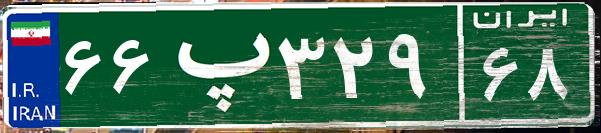2: (330, 28, 385, 110)
3: (273, 28, 330, 110)
6: (57, 26, 110, 107), (475, 38, 525, 113), (110, 28, 158, 105)
8: (525, 38, 570, 115)
9: (385, 28, 445, 110)
پ: (158, 15, 273, 115)
